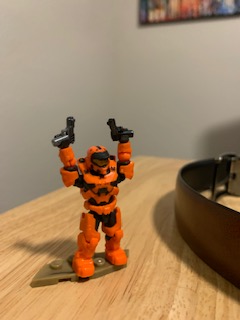pistol: (49, 115, 78, 150), (104, 118, 134, 144)
spartan: (50, 130, 138, 280)
up: (53, 132, 135, 204)
